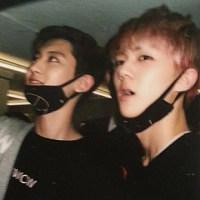WRONG: (114, 50, 185, 127), (23, 47, 83, 111)
